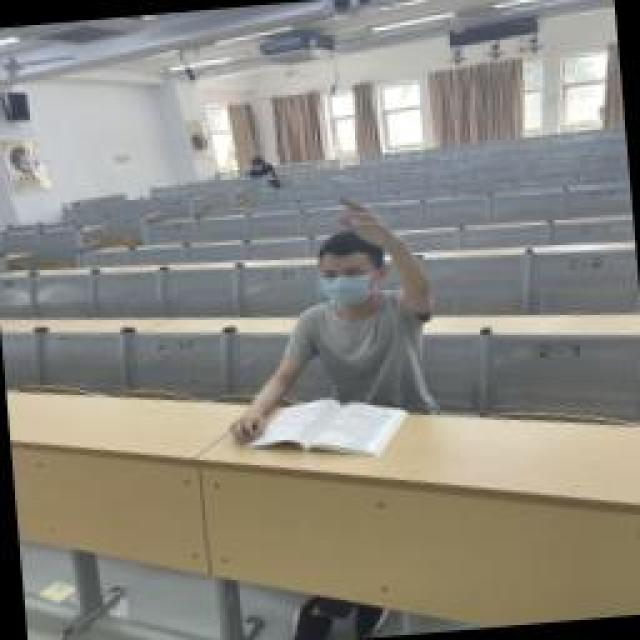study: (213, 190, 445, 445)
